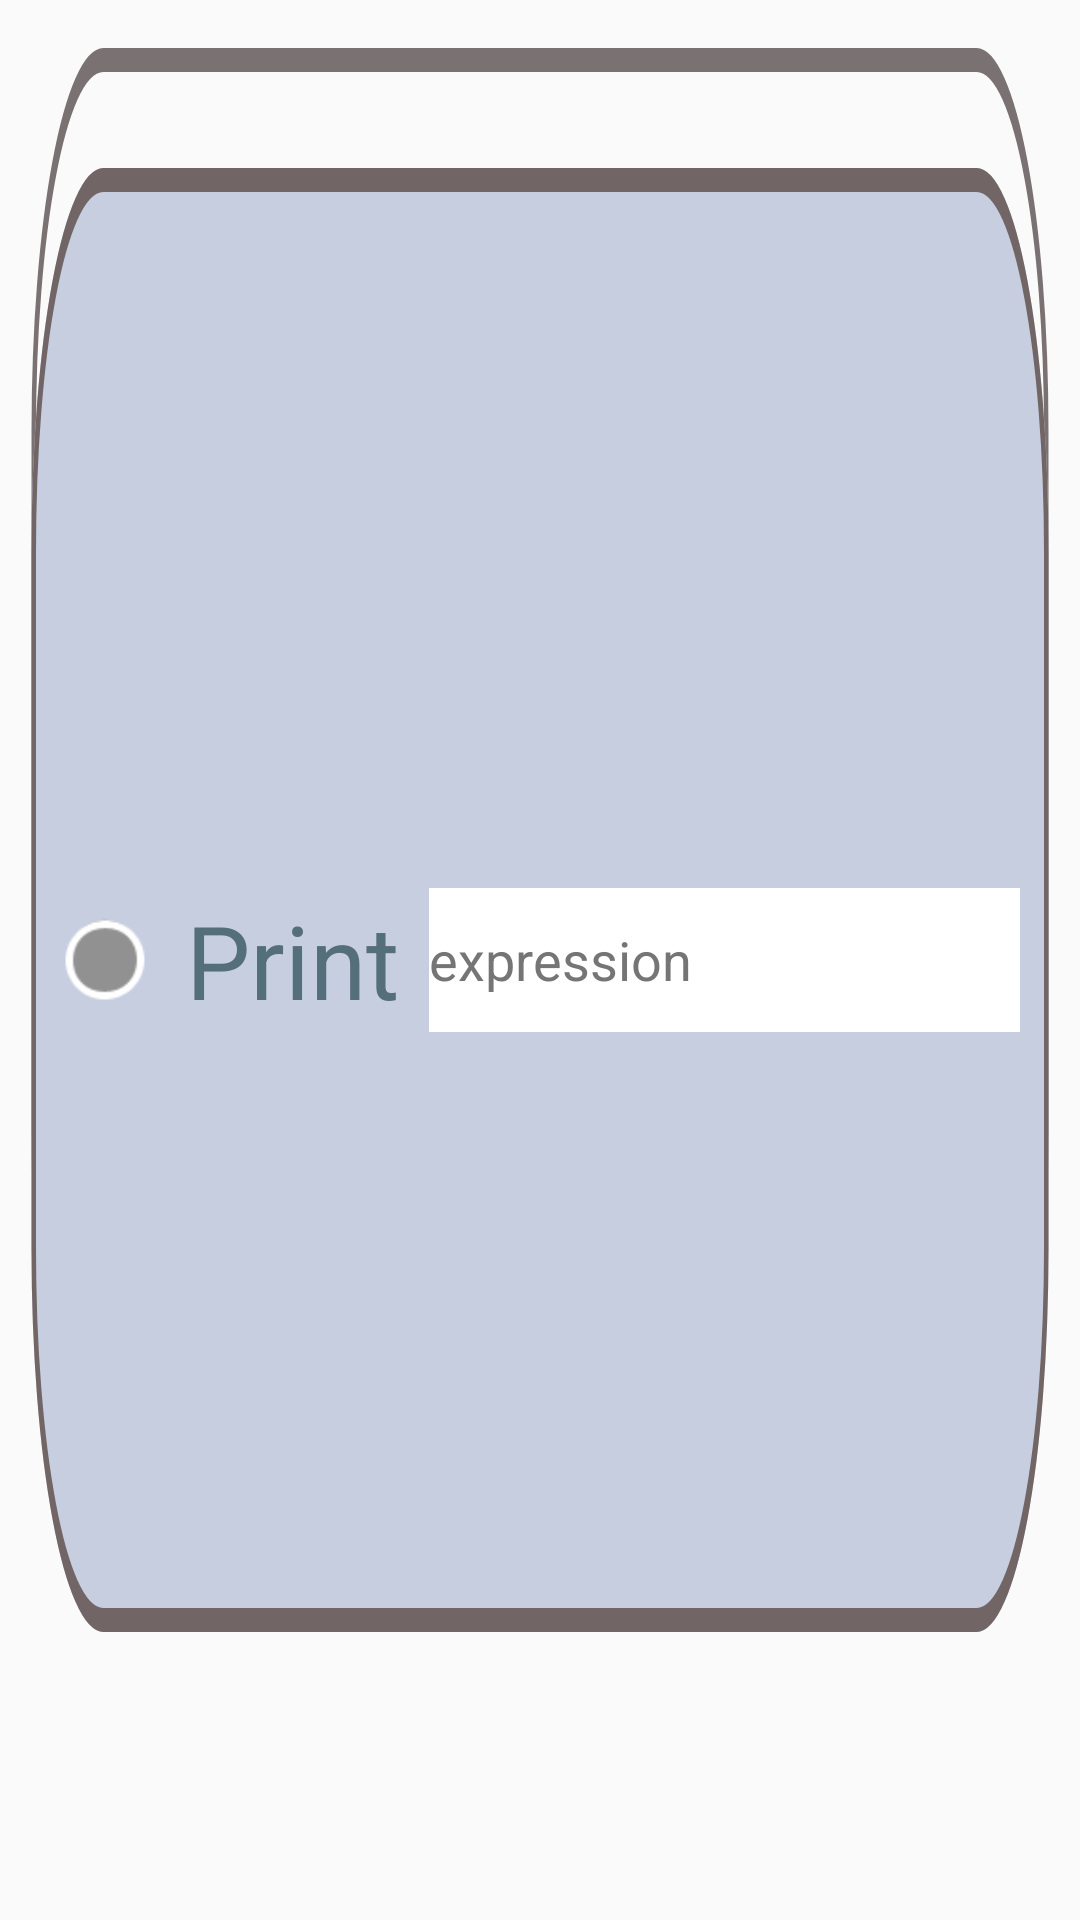

Named icons in this screenshot (1080*1920) and their bounding boxes, (x1, y1, x2, y2):
presence invisible: (66, 921, 144, 999)
